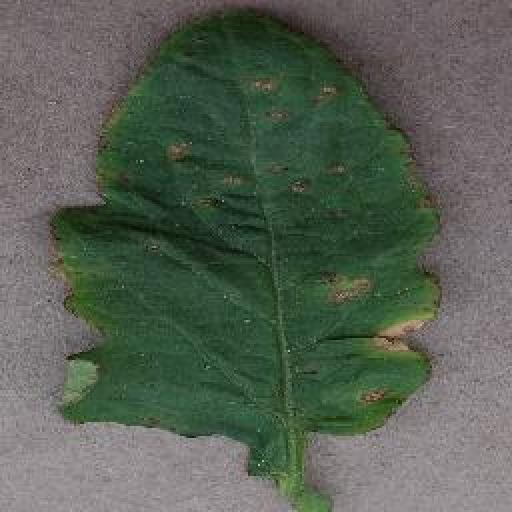Bacterial Spot: (48, 4, 444, 447)
